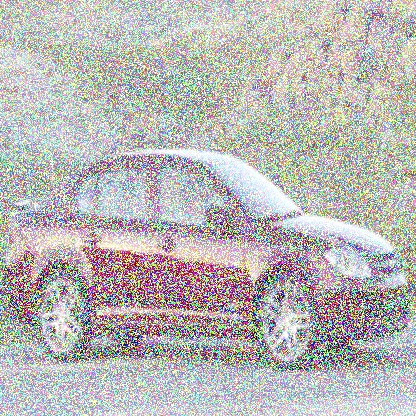Vehicle: (2, 145, 414, 374)
